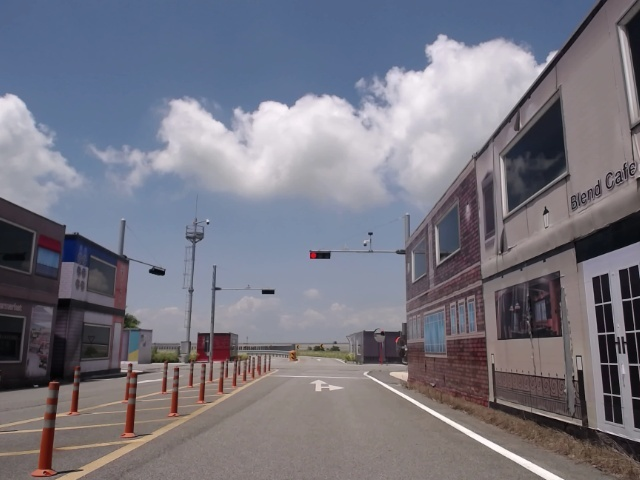red_3: (310, 250, 332, 258)
